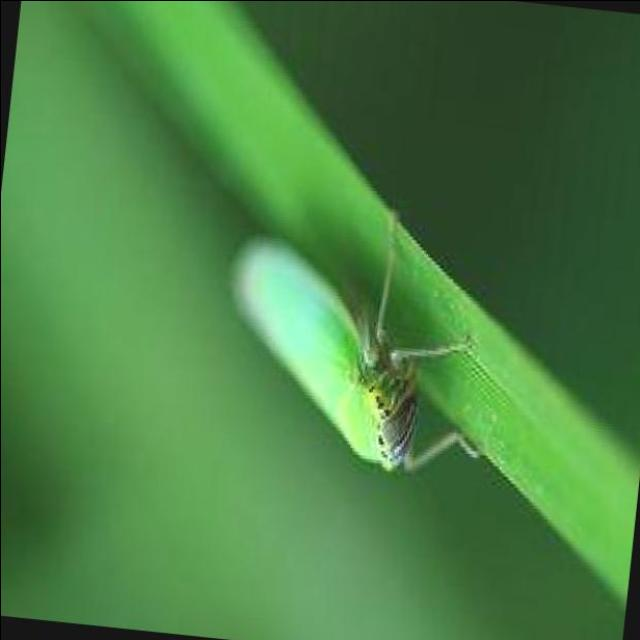green leaf hopper: (233, 213, 478, 470)
